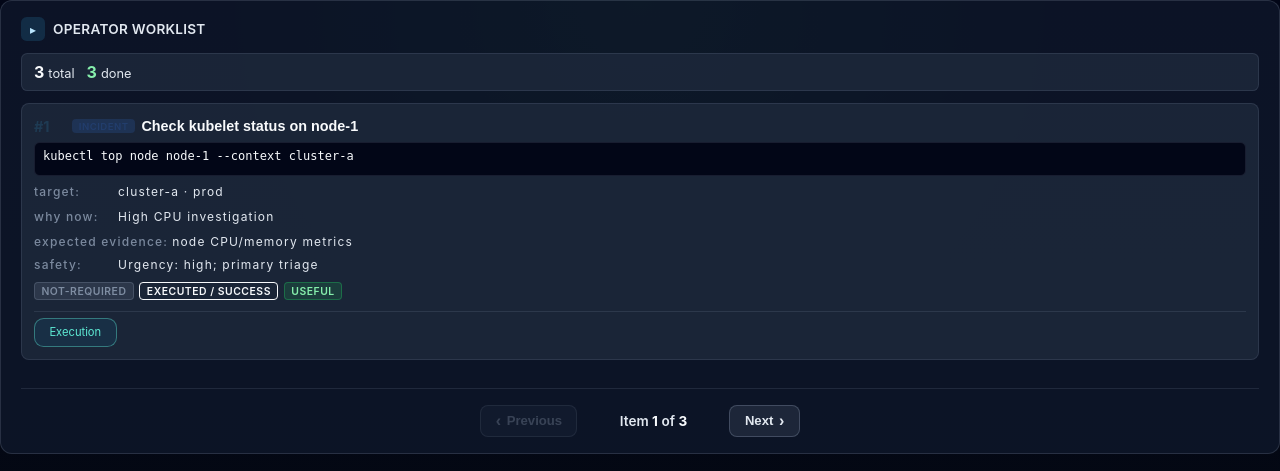
Test case: Regression: Executed/reviewed item rendering › Partial feedback item shows correct state
The width and height of the screenshot is (1280, 471).
# Navigate to page 2 first
What coordinates should you click on to do the following:
click the button with aria-label "worklist next page"
I would click on:
 (765, 421)
Its box is [730,405,800,437].
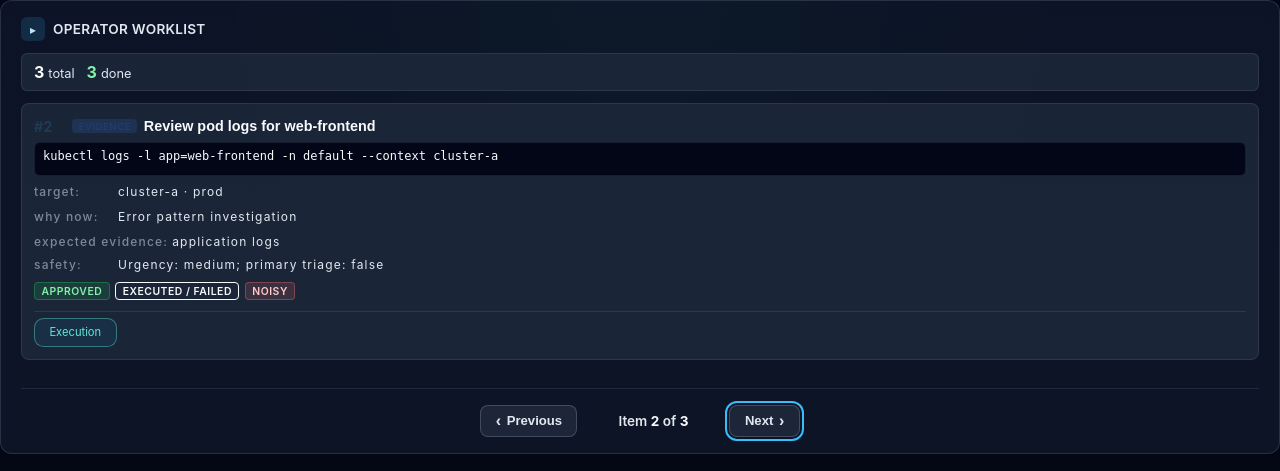
What coordinates should you click on to do the following:
click the button with aria-label "worklist next page"
I would click on:
 (765, 421)
Its box is [730,405,800,437].
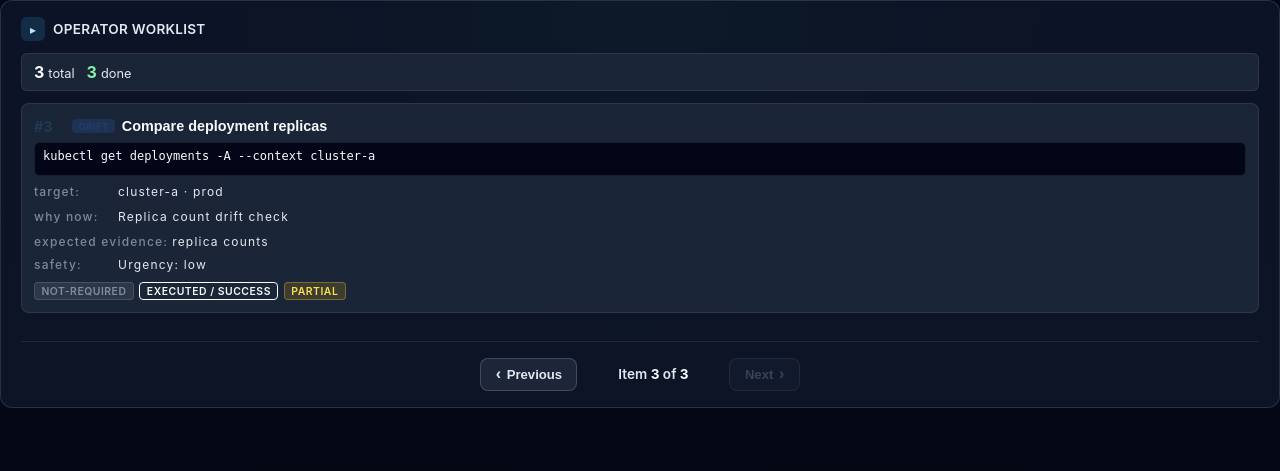
Result: the list item with test id "worklist-item-3" is shown at [21,103,1259,313]
Result: the text "executed / success" is shown at [140,282,278,300]
Result: the text "partial" is shown at [284,282,346,300]
